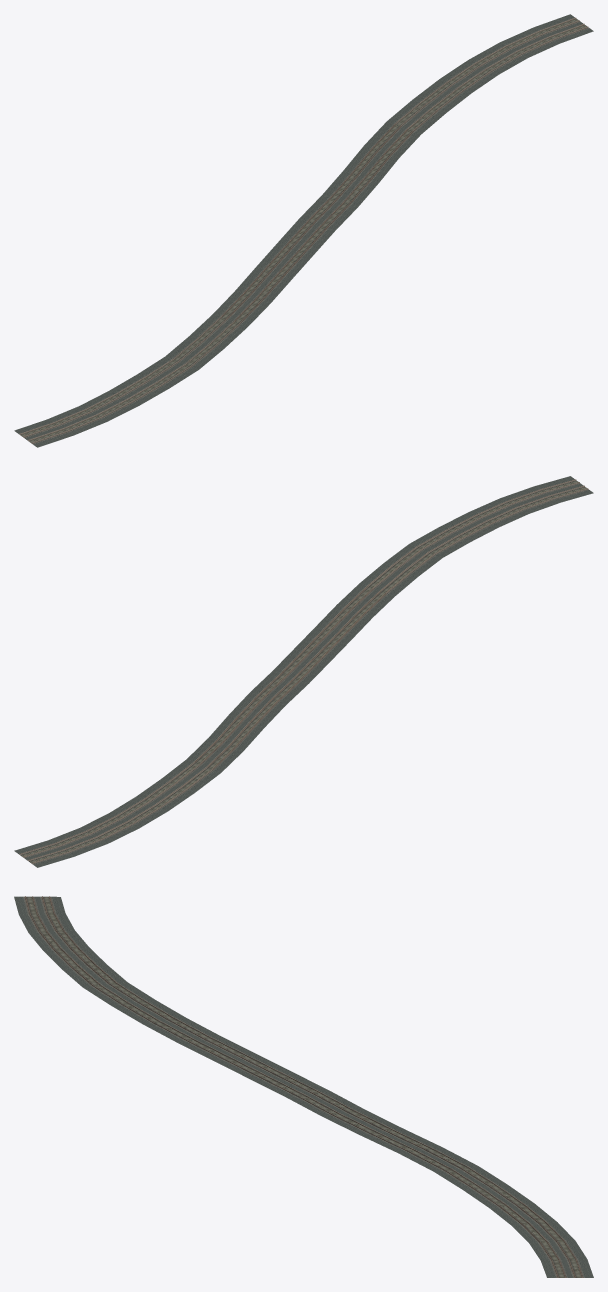
The model's file is vegaswrailroad01.obj.
3 views of the same model, one above another, from view 1: azimuth 30°, elevation 25°; view 2: azimuth 210°, elevation 25°; view 3: azimuth 270°, elevation 25° (orthographic).
Parts seen in each view (by area): view 1: vegaswrailroad01; view 2: vegaswrailroad01; view 3: vegaswrailroad01.
Boxes of the visible parts, box(x1,y1,x2,y2) form: vegaswrailroad01: box(14, 14, 593, 447); vegaswrailroad01: box(14, 476, 593, 867); vegaswrailroad01: box(14, 896, 593, 1277).
Size of the model in its own units: 224 by 5.63 by 137.
Materials: 2 (2 with a texture image).
